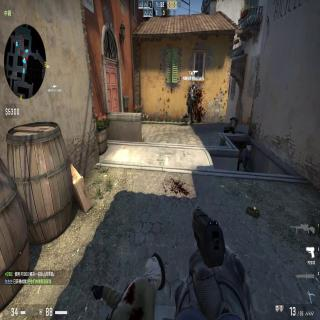CT-Body: (181, 85, 197, 124)
CT-Head: (192, 86, 196, 92)
T-Body: (240, 143, 254, 170)
T-Head: (246, 143, 252, 153)
